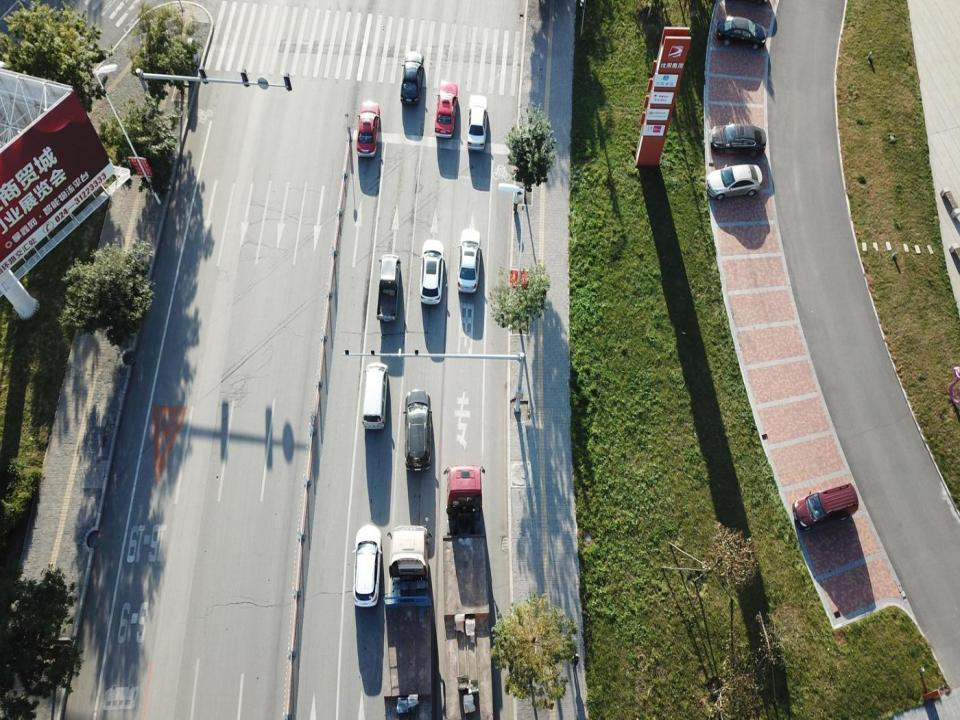car: (352, 524, 380, 606), (404, 390, 432, 472), (706, 165, 761, 199), (715, 14, 767, 48), (710, 124, 764, 154), (421, 240, 445, 306), (458, 230, 481, 292), (355, 101, 380, 158), (399, 52, 423, 106), (435, 81, 458, 136), (466, 94, 486, 153)
truck: (444, 464, 496, 719), (385, 525, 436, 719), (377, 256, 400, 322)
van: (793, 483, 860, 536), (363, 363, 389, 430)
